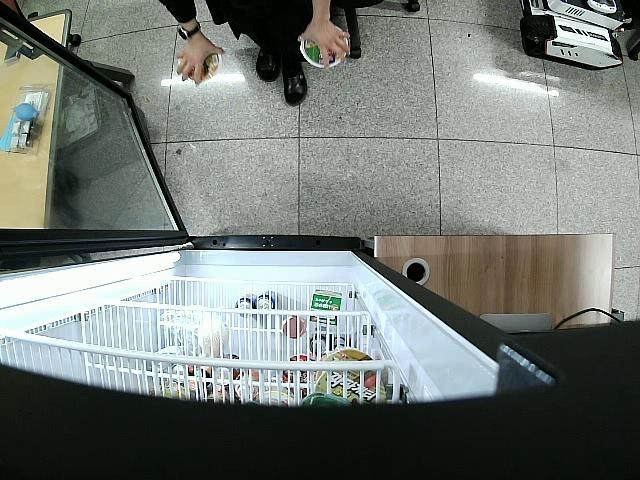09_yukGaeJang: (299, 26, 348, 68), (179, 50, 222, 84)
